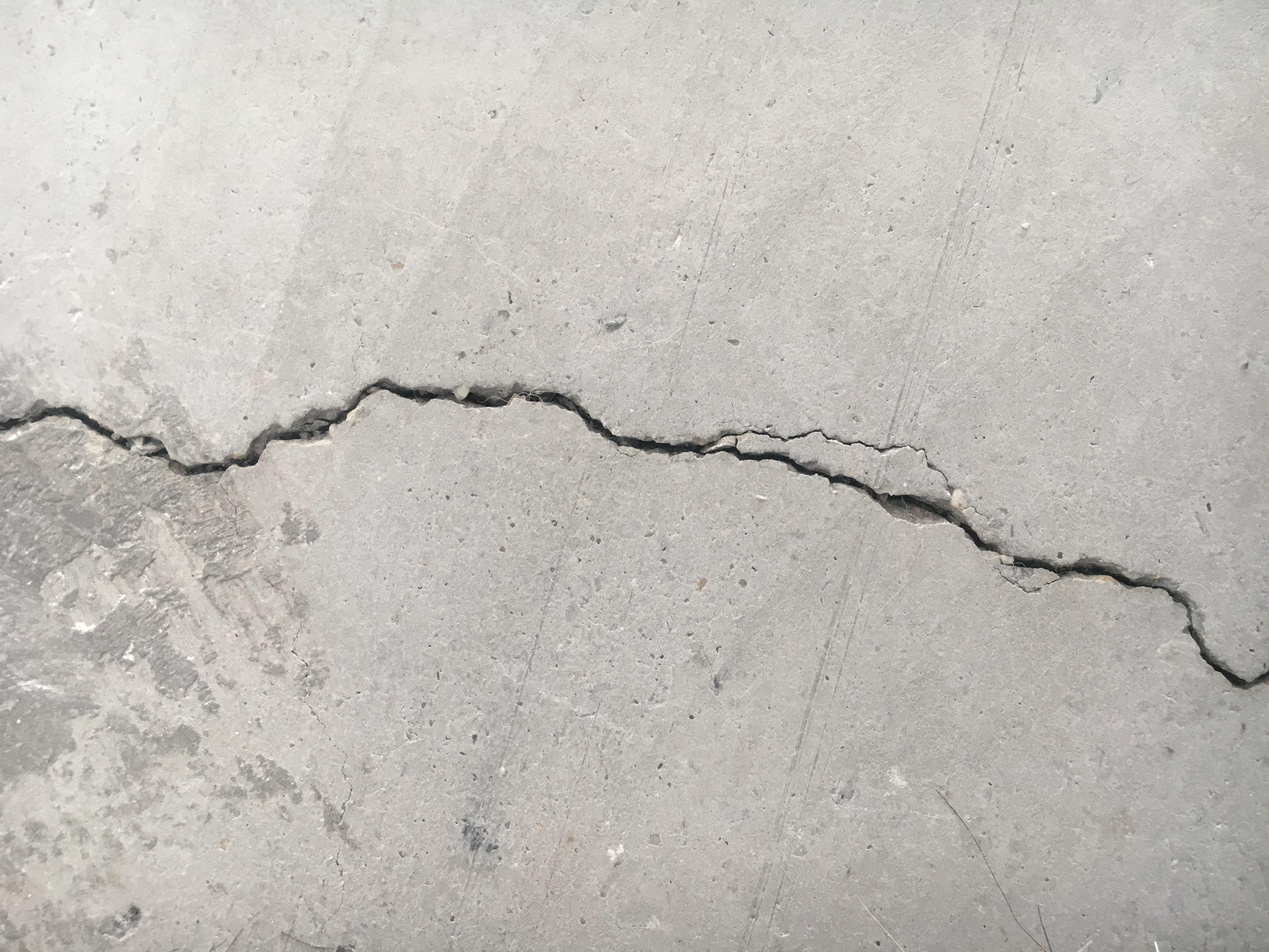Horizontal Settlement Crack: (3, 372, 1265, 692)
